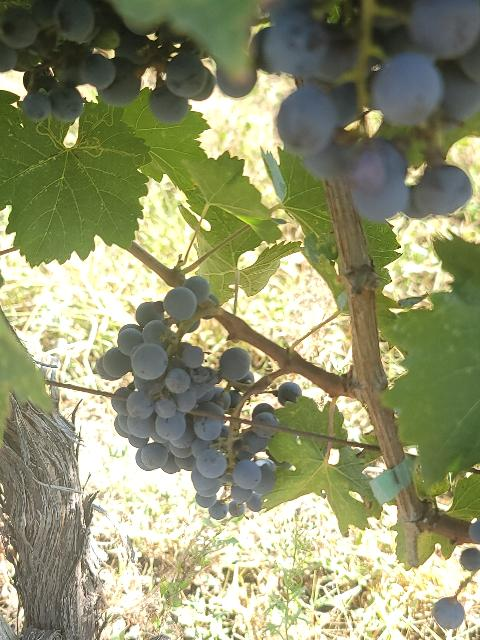grapes: (251, 0, 480, 221), (99, 276, 250, 472), (0, 0, 215, 124), (175, 401, 276, 519)
